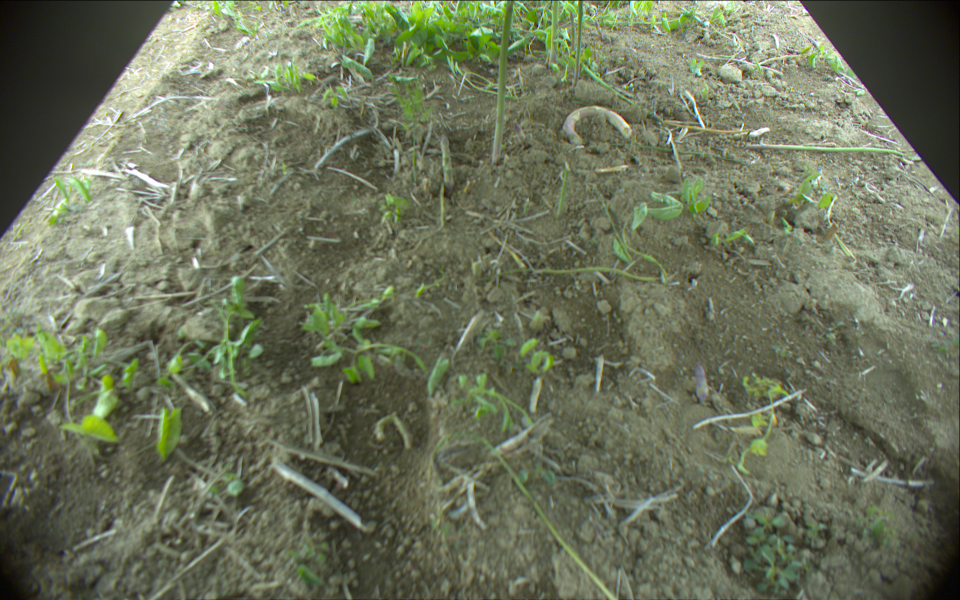aspa: (484, 435, 617, 600), (492, 1, 522, 161), (583, 61, 638, 105), (750, 143, 905, 158), (573, 1, 585, 87), (439, 132, 454, 200), (549, 1, 563, 69), (556, 163, 570, 220), (567, 13, 577, 51)
